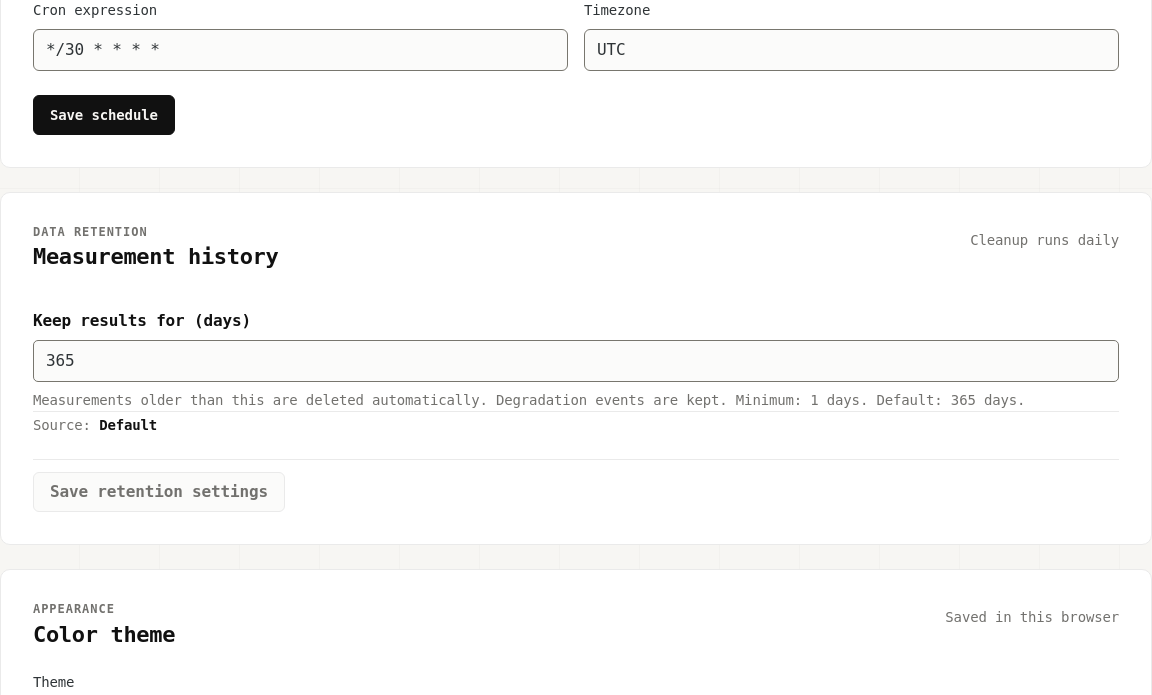
Scenario: SettingsPage › changing retention sends only retention.days on save
This screenshot has width=1152, height=695.
(page scrolled)
Replace the text in the number field labelled "Keep results for (days)" with "180". click: coordinates (576, 361)
box: 33,340 -> 1119,382
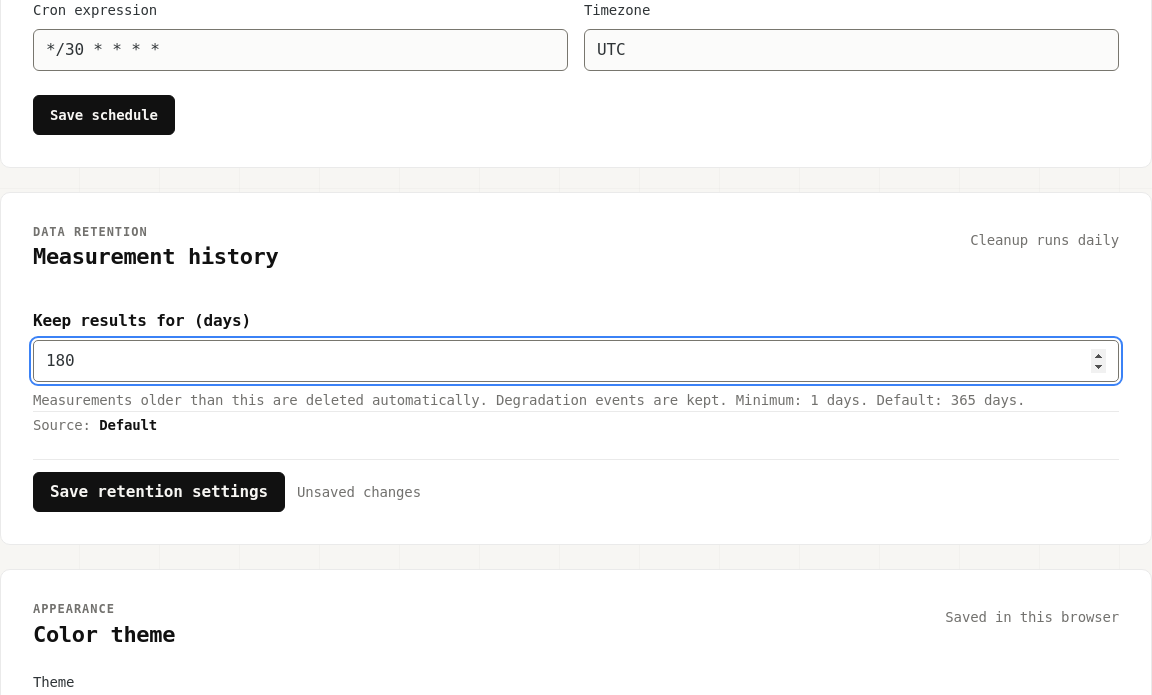
Click the button "Save retention settings". click: coordinates (159, 492)
box: 33,472 -> 285,512
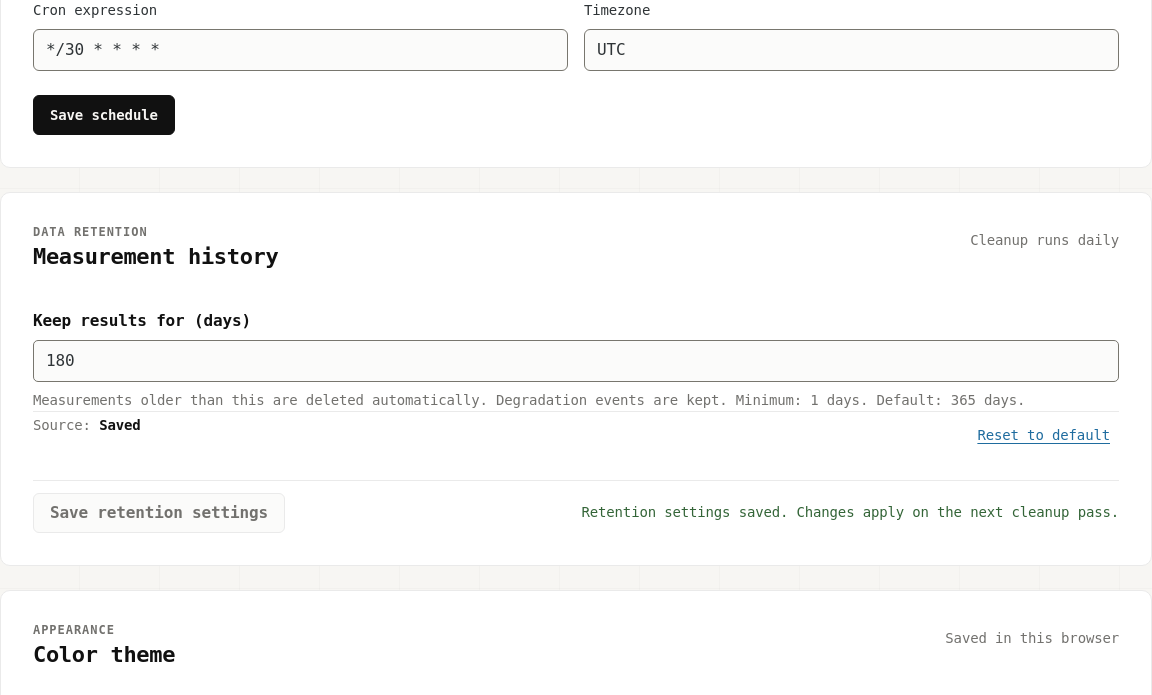
Expected: the text "Retention settings saved. Changes apply on the next cleanup pass." is shown, 582,503 -> 1119,523
